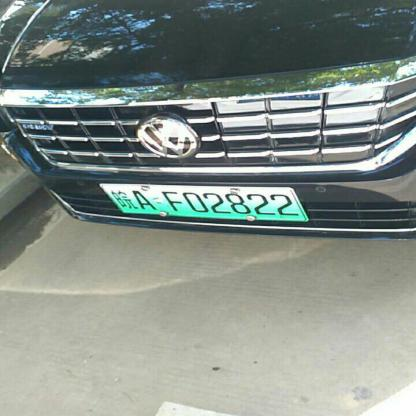lp: (98, 183, 306, 221)
